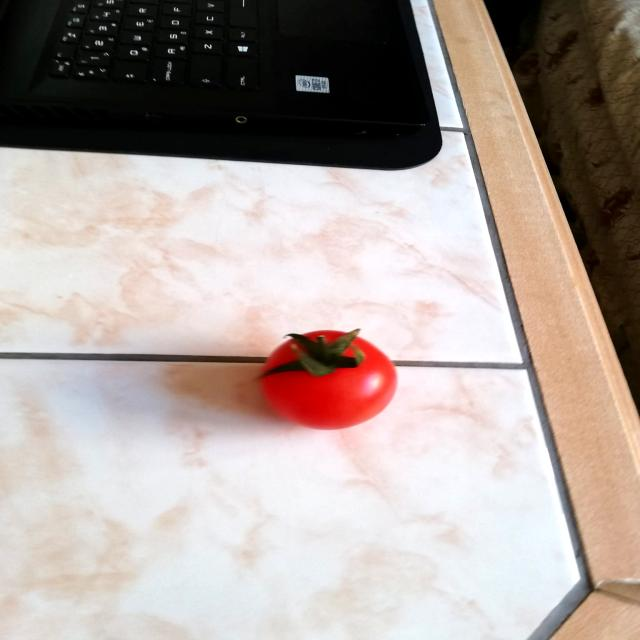tomato: (250, 318, 404, 434)
